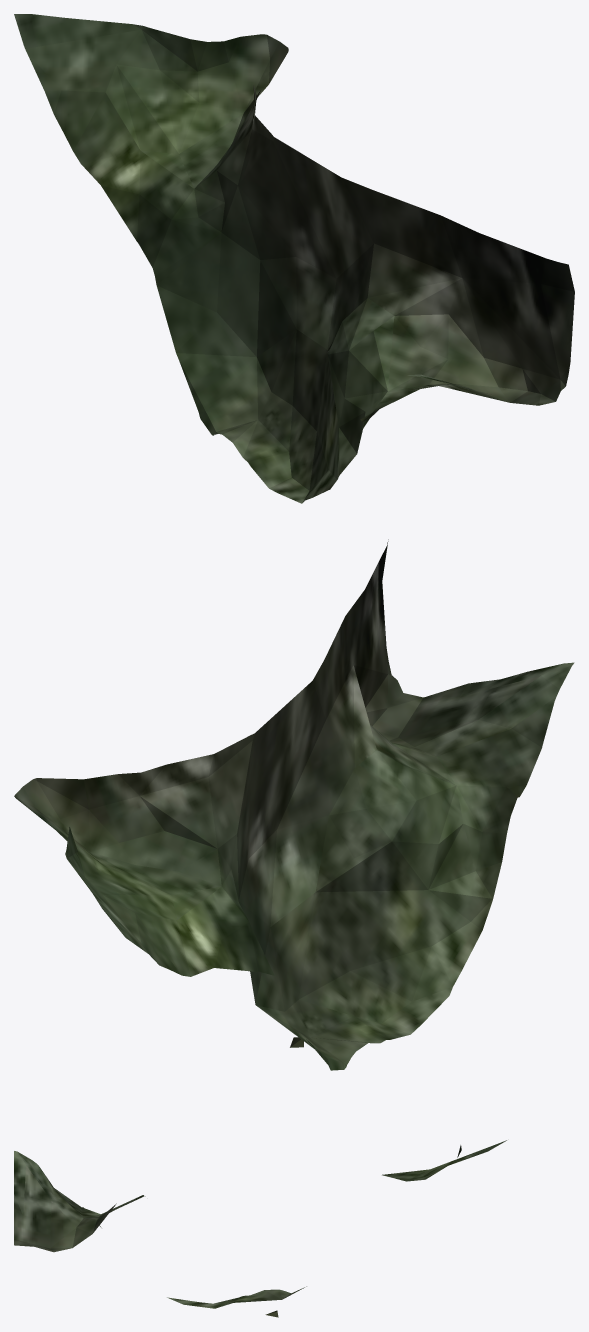
3 renders of one model, top to bottom at view 1: azimuth 30°, elevation 25°; view 2: azimuth 150°, elevation 25°; view 3: azimuth 270°, elevation 25°, orthographic. The views are drawn at different scales.
Size of the model in its own units: 0.7285 by 1.17 by 2.91.
Materials: 1 (1 with a texture image).
